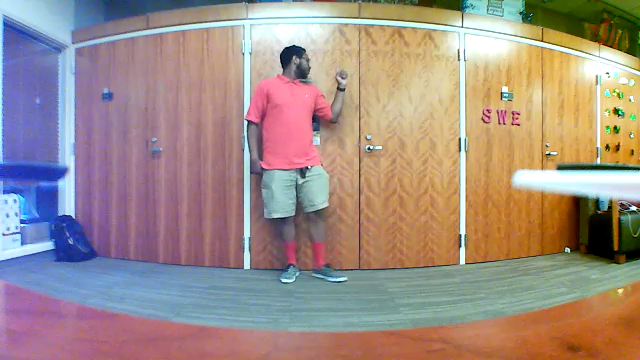up: (331, 60, 354, 91)
